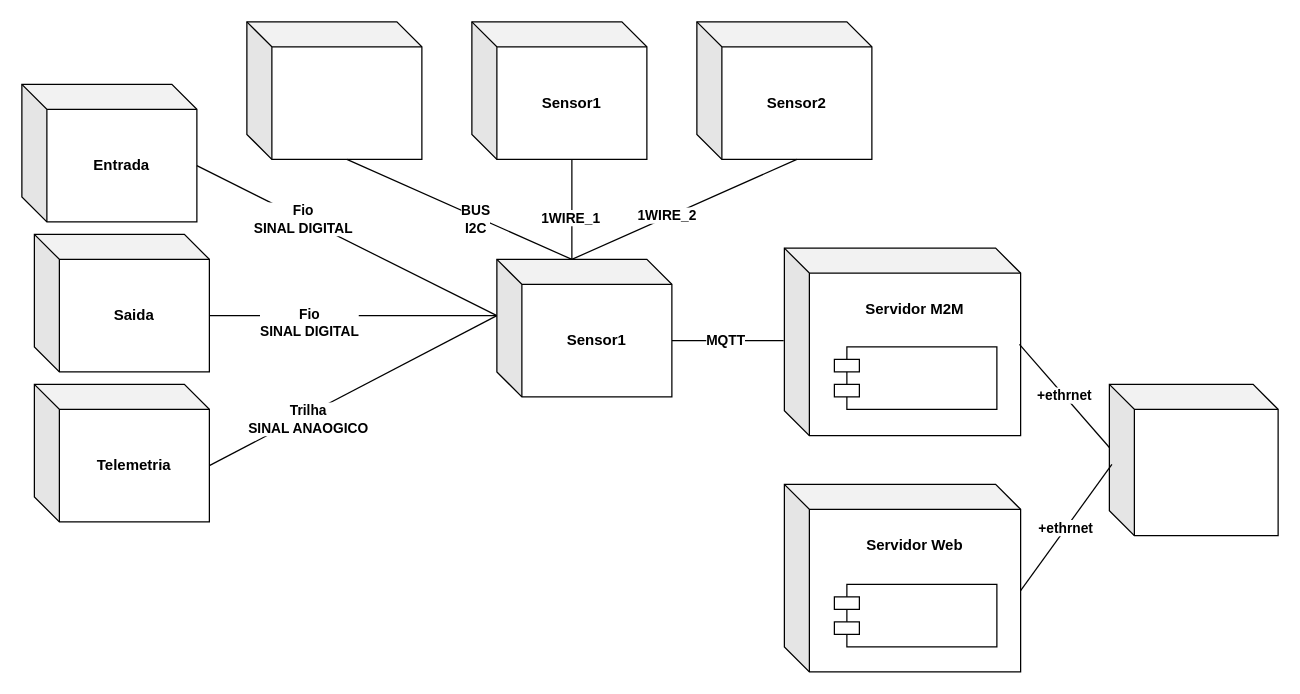
The diagram is 1300 pixels wide and 694 high, and some of its shapes have lost their labels. Here are the shapes that lost their labels. From the top down, the centre of each, then its label:
(334,90): Sensores "Rede"
(921,377): Dispositivo
(1193,459): Banco de dados
(921,615): Usuário
